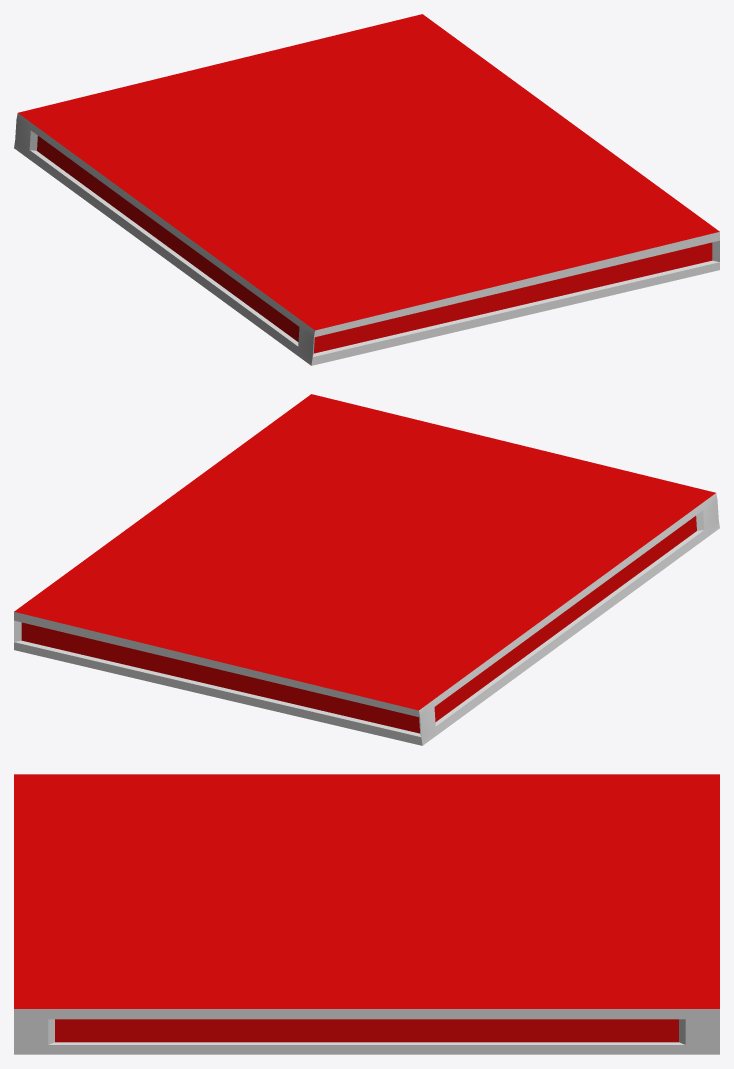
Rendered from Redplatform.fbx.
3 renders of one model, top to bottom at view 1: azimuth 30°, elevation 25°; view 2: azimuth 150°, elevation 25°; view 3: azimuth 270°, elevation 25°, orthographic. The views are drawn at different scales.
Visible parts, largest first — view 1: pCube10; view 2: pCube10; view 3: pCube10.
Part boxes in pixels (bbox=[...]): pCube10: bbox=[14, 14, 719, 365]; pCube10: bbox=[14, 394, 719, 745]; pCube10: bbox=[14, 774, 719, 1054].
Bounding box in the file's own units: 4.19 × 0.3754 × 5.28.
